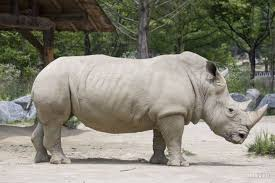Rhinoceros: (22, 40, 272, 165)
